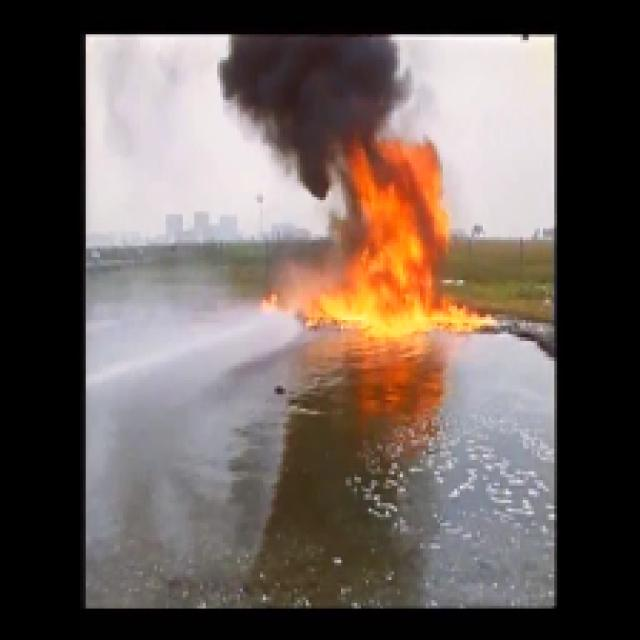fire: (349, 161, 438, 315)
smoke: (252, 40, 392, 148)
